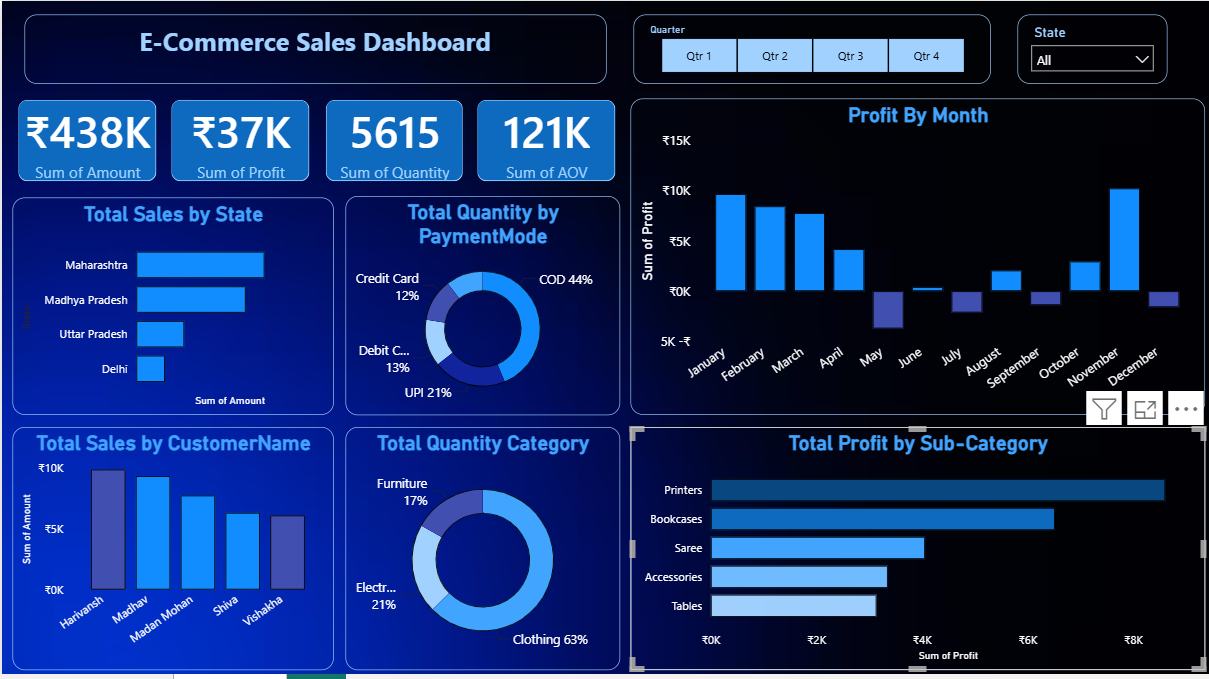

This screenshot's page, from the dashboard's own definition file:
{"tool":"powerbi","page":{"name":"Page 1","canvas":[1280,720],"ordinal":0},"visuals":[{"type":"textbox","box":[23.8,14.3,615.9,73],"z":0},{"type":"columnChart","title":"Profit By Month","fields":{"Category":["Orders.Order Date.Variation.Date Hierarchy.Month"],"Y":["Sum(Details.Profit)"]},"box":[665.1,103.2,607.9,334.9],"z":1000},{"type":"barChart","title":"Total Profit by Sub-Category","fields":{"Category":["Details.Sub-Category"],"Y":["Sum(Details.Profit)"]},"box":[665.1,450.8,607.9,257.1],"z":2000},{"type":"donutChart","title":"Total Quantity Category","fields":{"Category":["Details.Category"],"Y":["Sum(Details.Quantity)"]},"box":[363.5,450.8,290.5,257.1],"z":3000},{"type":"donutChart","title":"Total Quantity by PaymentMode","fields":{"Y":["Sum(Details.Quantity)"],"Category":["Details.PaymentMode"]},"box":[363.5,206.3,290.5,231.7],"z":4000},{"type":"cardVisual","fields":{"Data":["Sum(Details.Amount)"]},"box":[0,87.3,181,120.6],"z":5000},{"type":"cardVisual","fields":{"Data":["Sum(Details.Profit)"]},"box":[162.4,87.3,181,120.6],"z":6000},{"type":"cardVisual","fields":{"Data":["Sum(Details.Quantity)"]},"box":[324.9,87.3,179.4,120.6],"z":7000},{"type":"cardVisual","fields":{"Data":["Sum(Details.AOV)"]},"box":[485.7,87.3,180,120],"z":8000},{"type":"barChart","title":"Total Sales by State","fields":{"Category":["Orders.State"],"Y":["Sum(Details.Amount)"]},"box":[11.1,207.9,339.7,230.2],"z":9000},{"type":"columnChart","title":"Total Sales by CustomerName","fields":{"Category":["Orders.CustomerName"],"Y":["Sum(Details.Amount)"]},"box":[11.1,450.8,339.7,257.1],"z":10000},{"type":"slicer","fields":{"Values":["Orders.Order Date.Variation.Date Hierarchy.Quarter"]},"box":[668.3,14.3,377.8,73],"z":11000},{"type":"slicer","fields":{"Values":["Orders.State"]},"box":[1074.6,14.3,158.7,73],"z":12000}]}

Visuals, with their boxes in screenshot pixels (x1, y1, x2, y2), scaled from the page's 1280x720 canvas onto the 1209x679 screenshot:
textbox: crop(22, 13, 604, 82)
"Profit By Month" columnChart: crop(628, 97, 1202, 413)
"Total Profit by Sub-Category" barChart: crop(628, 425, 1202, 668)
"Total Quantity Category" donutChart: crop(343, 425, 618, 668)
"Total Quantity by PaymentMode" donutChart: crop(343, 195, 618, 413)
cardVisual - Sum(Details.Amount): crop(0, 82, 171, 196)
cardVisual - Sum(Details.Profit): crop(153, 82, 324, 196)
cardVisual - Sum(Details.Quantity): crop(307, 82, 476, 196)
cardVisual - Sum(Details.AOV): crop(459, 82, 629, 195)
"Total Sales by State" barChart: crop(10, 196, 331, 413)
"Total Sales by CustomerName" columnChart: crop(10, 425, 331, 668)
slicer - Orders.Order Date.Variation.Date Hierarchy.Quarter: crop(631, 13, 988, 82)
slicer - Orders.State: crop(1015, 13, 1165, 82)
